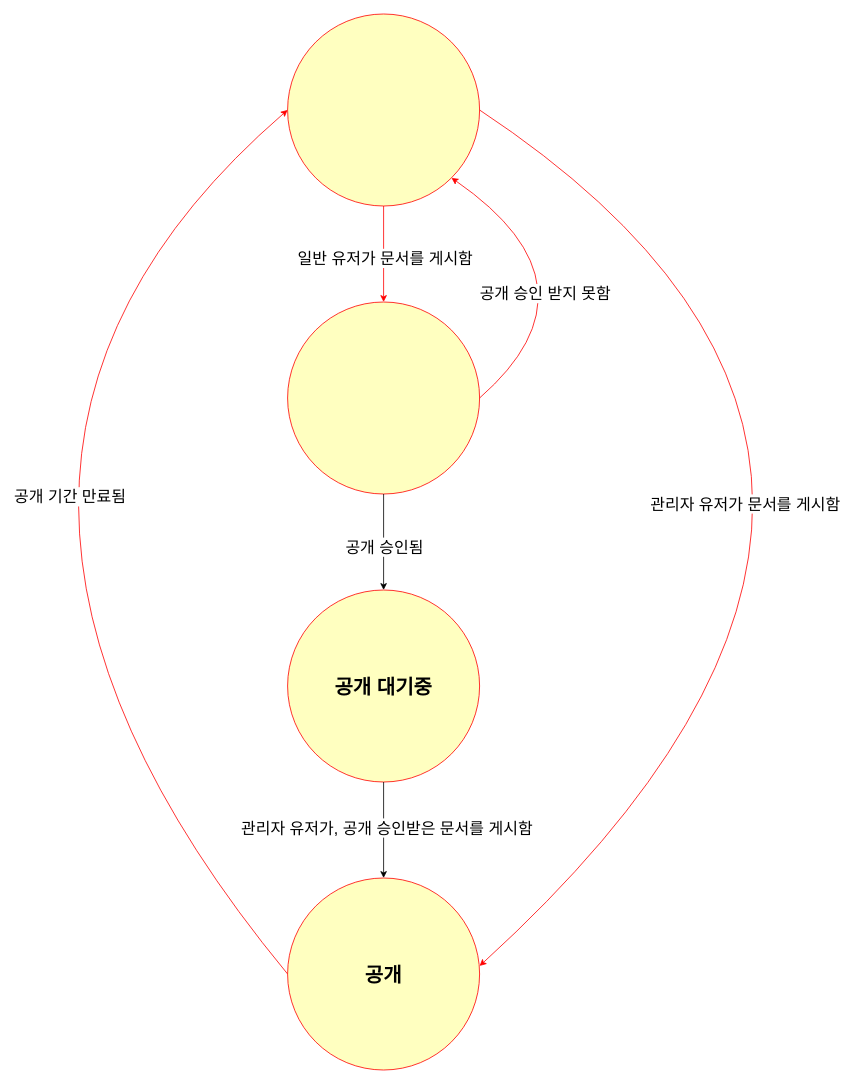
This 854x1084 diagram has some shape labels left out. The centre of each missing label's shape, as x and y in pixels:
검토 / 조정 진행중: (383,397)
초안: (383,109)
